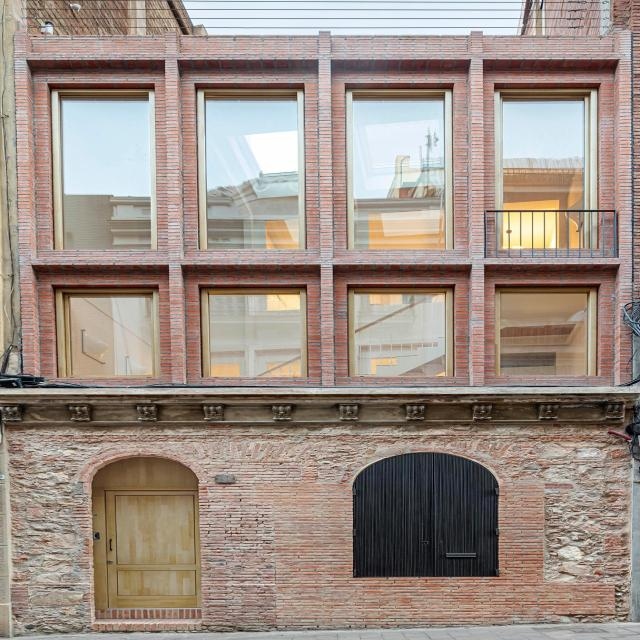door: (87, 457, 204, 611)
railing: (192, 0, 522, 33), (485, 208, 614, 257)
window: (197, 92, 304, 248), (348, 92, 452, 250), (55, 93, 157, 251), (498, 93, 597, 255), (493, 287, 598, 378), (206, 291, 311, 376), (350, 290, 450, 378), (57, 292, 153, 375)
